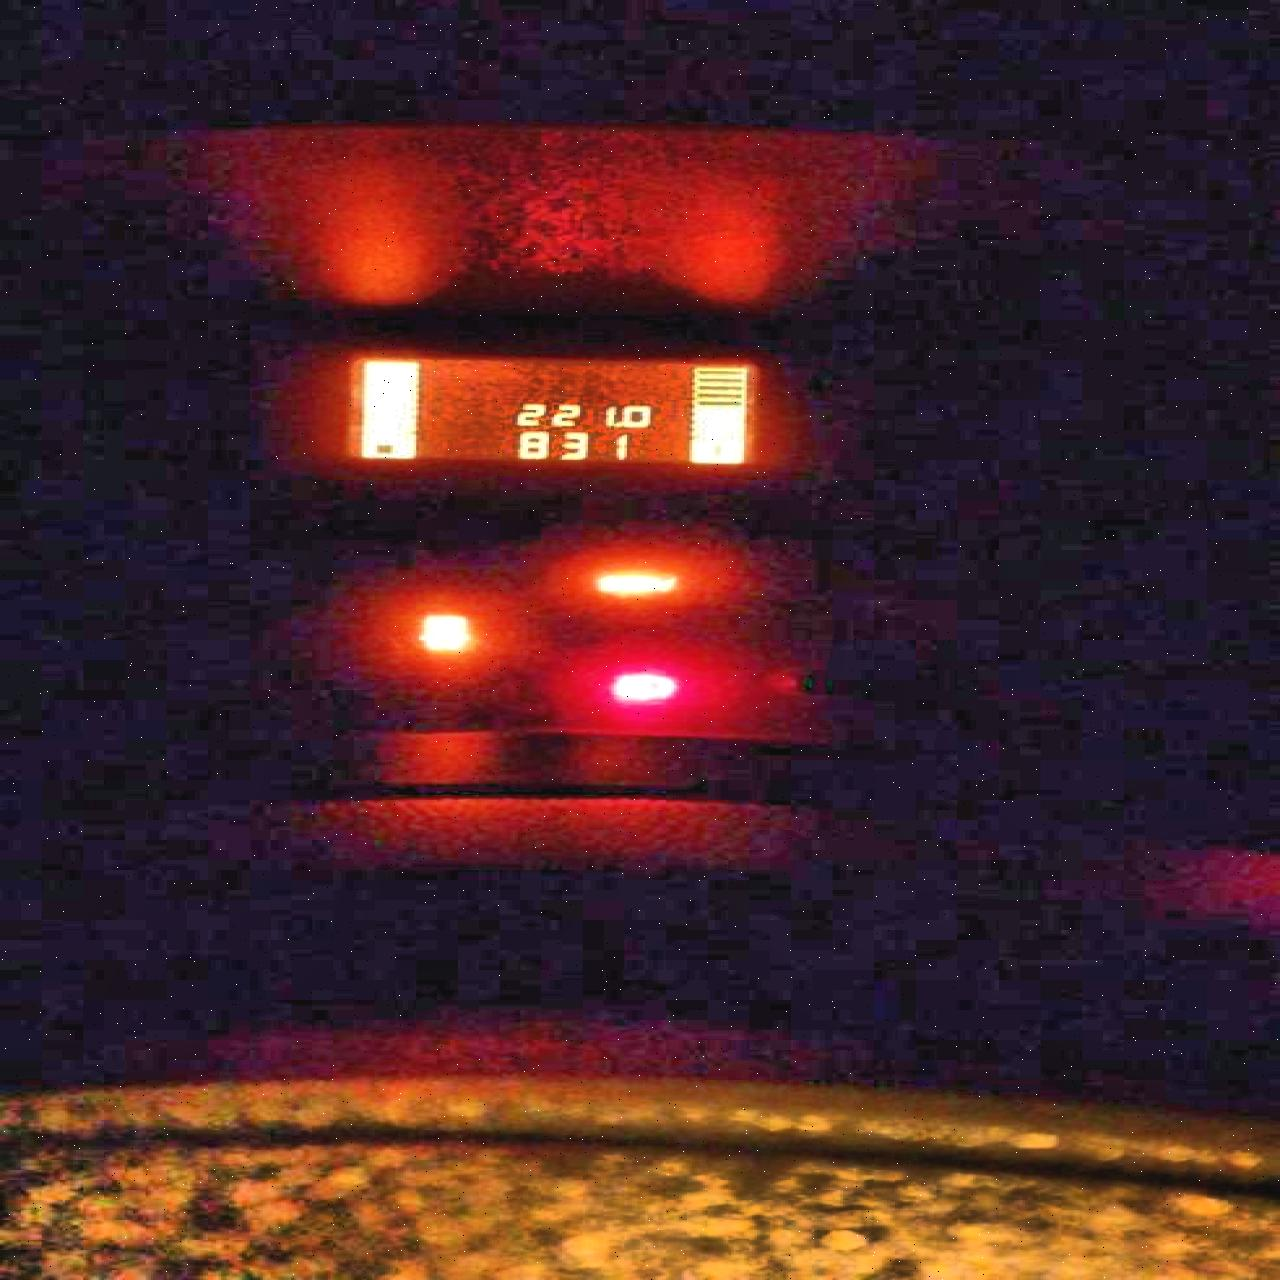-: (611, 422, 621, 427)
0: (620, 406, 651, 425)
1: (611, 433, 627, 459), (601, 406, 614, 425)
2: (512, 403, 544, 425), (549, 404, 580, 425)
3: (557, 430, 588, 459)
8: (515, 430, 546, 459)
odometer: (339, 354, 764, 469)
